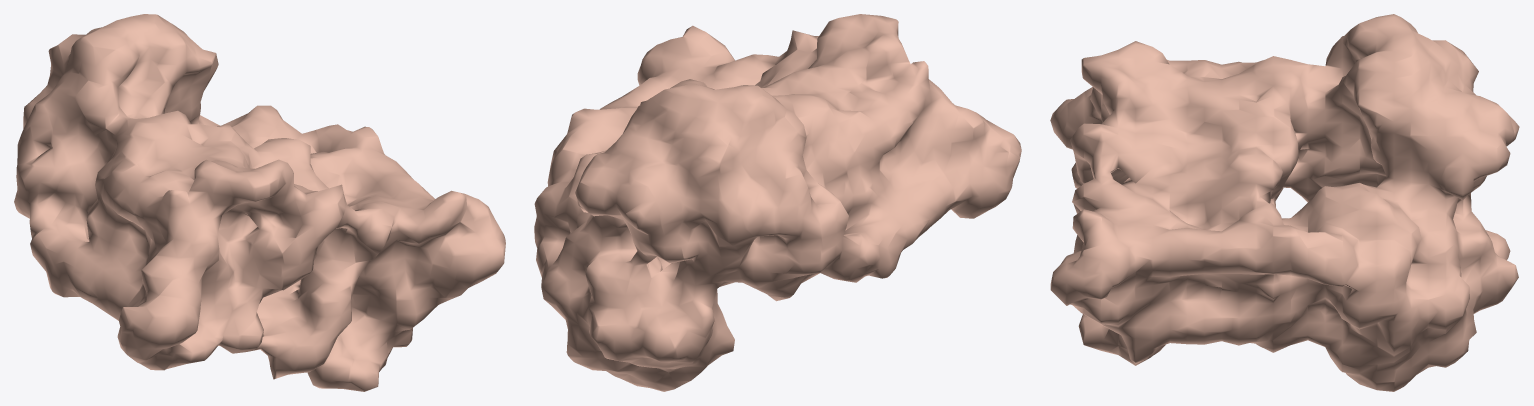
The model's file is CoarseMS_1l7v_1_0.dae.
3 renders of one model, left to right at view 1: azimuth 30°, elevation 25°; view 2: azimuth 150°, elevation 25°; view 3: azimuth 270°, elevation 25°, orthographic.
Visible parts, largest first — view 1: CoarseMS_1l7v_aligned; view 2: CoarseMS_1l7v_aligned; view 3: CoarseMS_1l7v_aligned.
Part boxes in pixels (bbox=[...]): CoarseMS_1l7v_aligned: bbox=[14, 14, 505, 391]; CoarseMS_1l7v_aligned: bbox=[534, 14, 1021, 391]; CoarseMS_1l7v_aligned: bbox=[1050, 14, 1519, 391].
Bounding box in the file's own units: 85.64 × 68.01 × 92.75.
